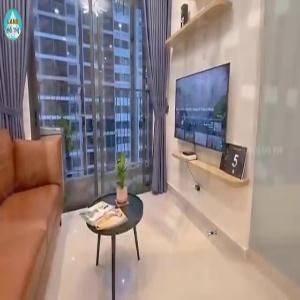drone: (197, 217, 232, 252)
